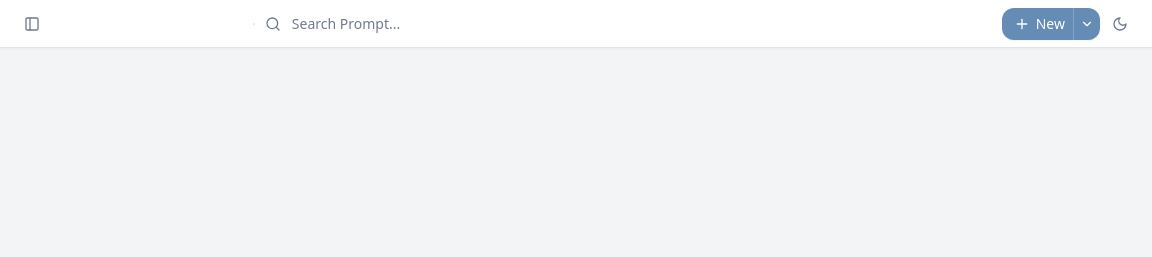
Scenario: TopBar › switches creation mode from the portal menu
Click the 3rd button. click: (1087, 24)
box: [1074,8,1100,40]
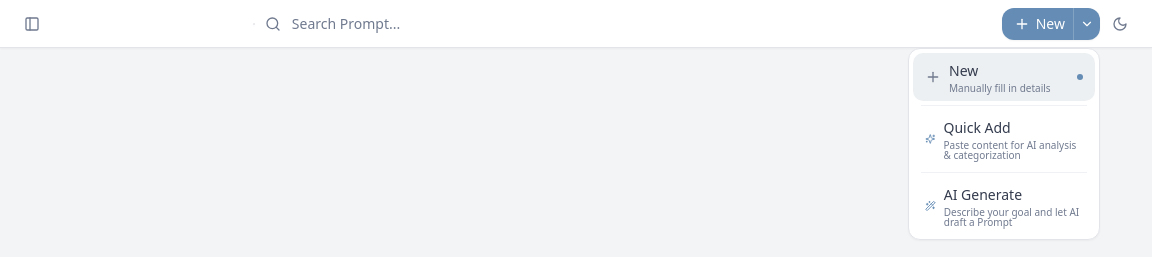
Click the text "Quick Add". click: (977, 128)
box: [944,118,1011,138]
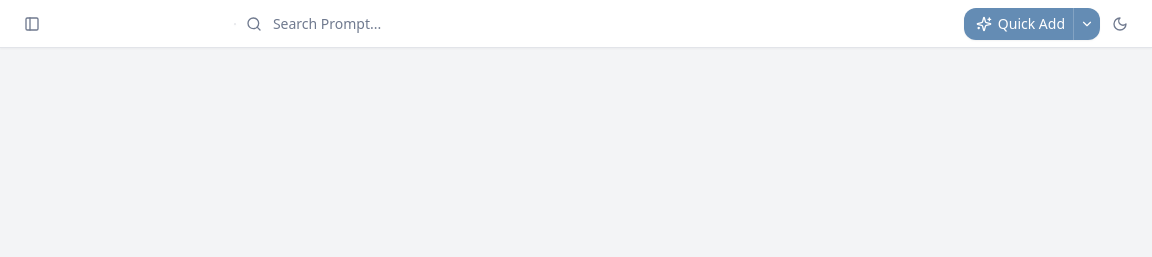
Check: the menu is gone
